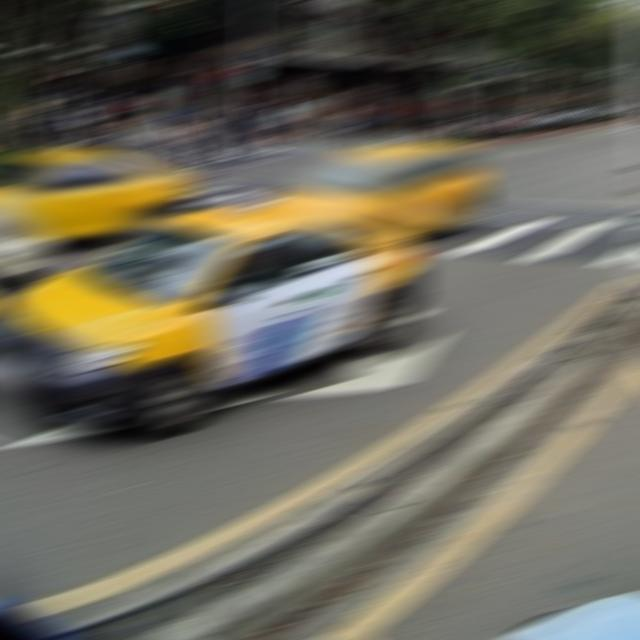Fire: (268, 146, 490, 234), (0, 151, 194, 238)
Taxi: (0, 195, 428, 434)
